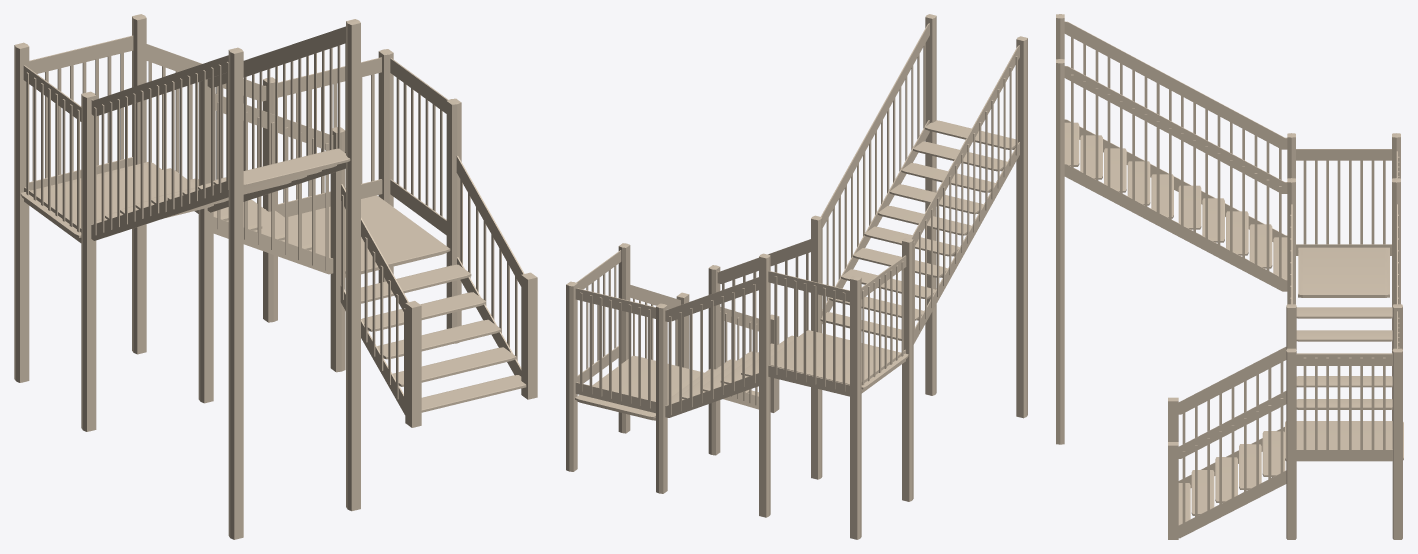
The model's file is ComplexStairs.fbx.
The picture shows the model from 3 angles, left to right: view 1: azimuth 30°, elevation 25°; view 2: azimuth 150°, elevation 25°; view 3: azimuth 270°, elevation 25°; orthographic projection. The views are drawn at different scales.
Visible parts, largest first — view 1: Cube.025; view 2: Cube.025; view 3: Cube.025.
Boxes of the visible parts, x1,y1,x2,y2 form: Cube.025: [14, 14, 537, 539]; Cube.025: [566, 14, 1027, 539]; Cube.025: [1056, 14, 1403, 539].
Size of the model in its own units: 291 by 360 by 297.
